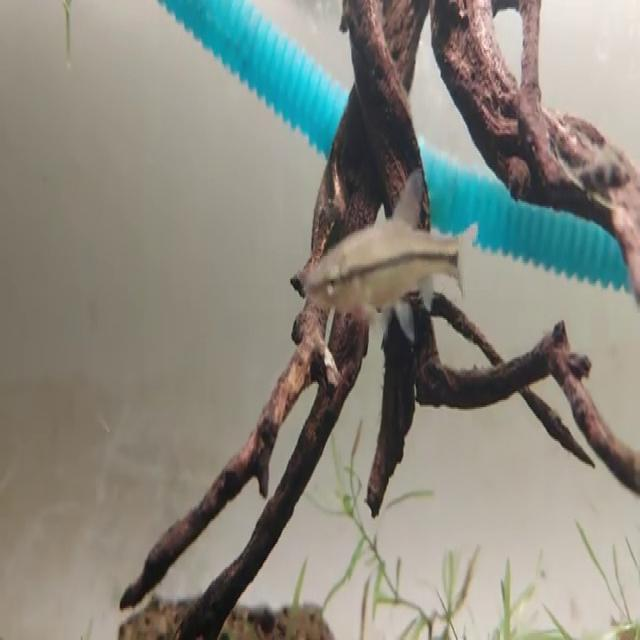Cakil Baligi: (303, 164, 477, 351)
